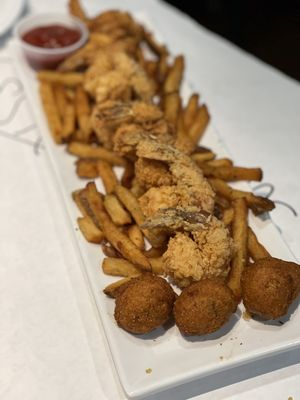sushi: (15, 13, 90, 70)
